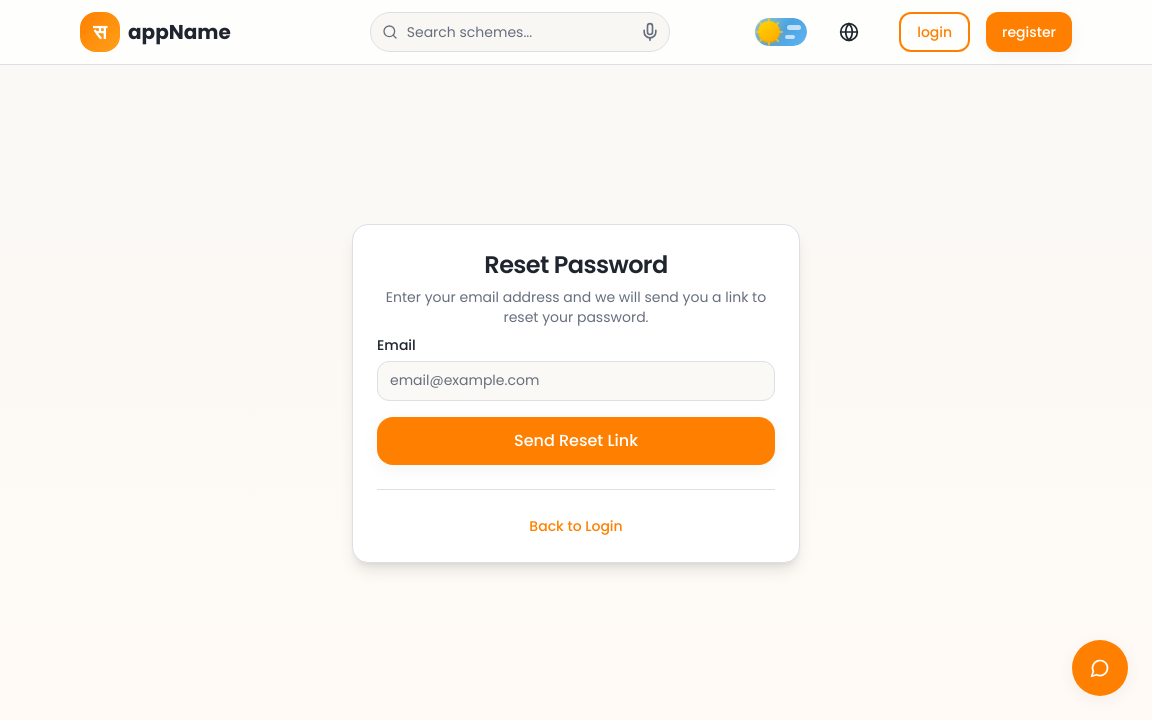
Forgot Password Flow › ForgotPassword Component › 2. Invalid email format
The width and height of the screenshot is (1152, 720).
Type "invalidemail" into the field with placeholder "email@example.com" at (576, 380), box [377, 360, 775, 400]
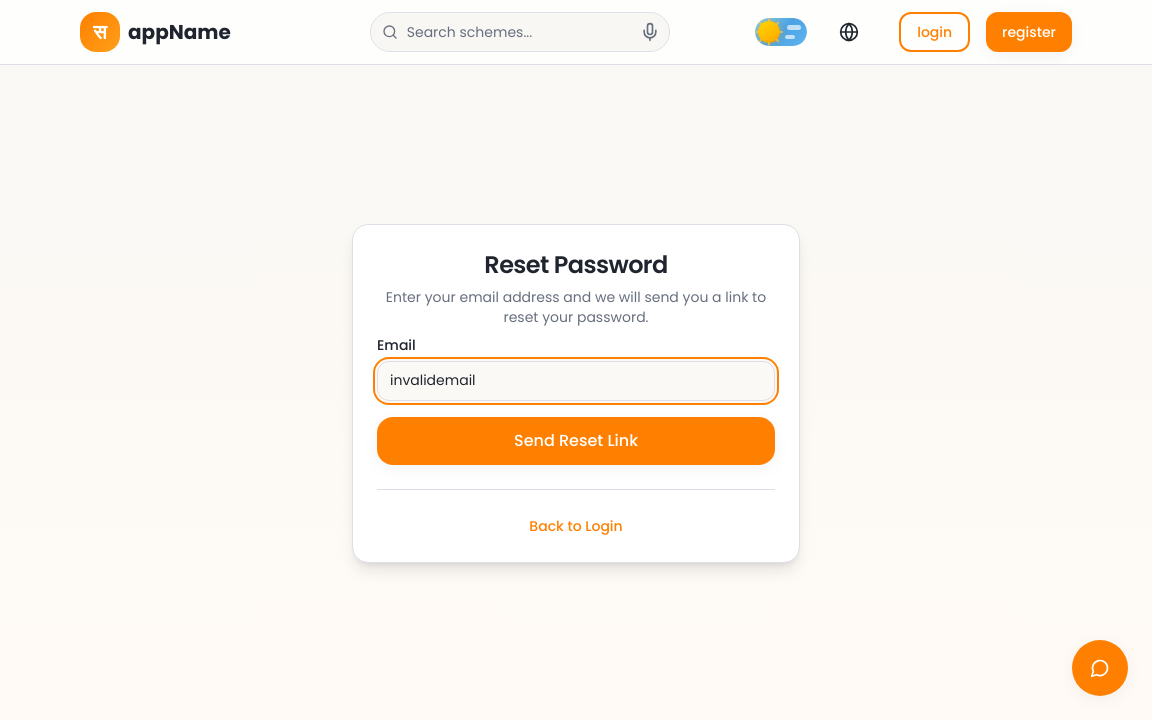
Click the button "Send Reset Link" at (576, 440), box [377, 416, 775, 464]
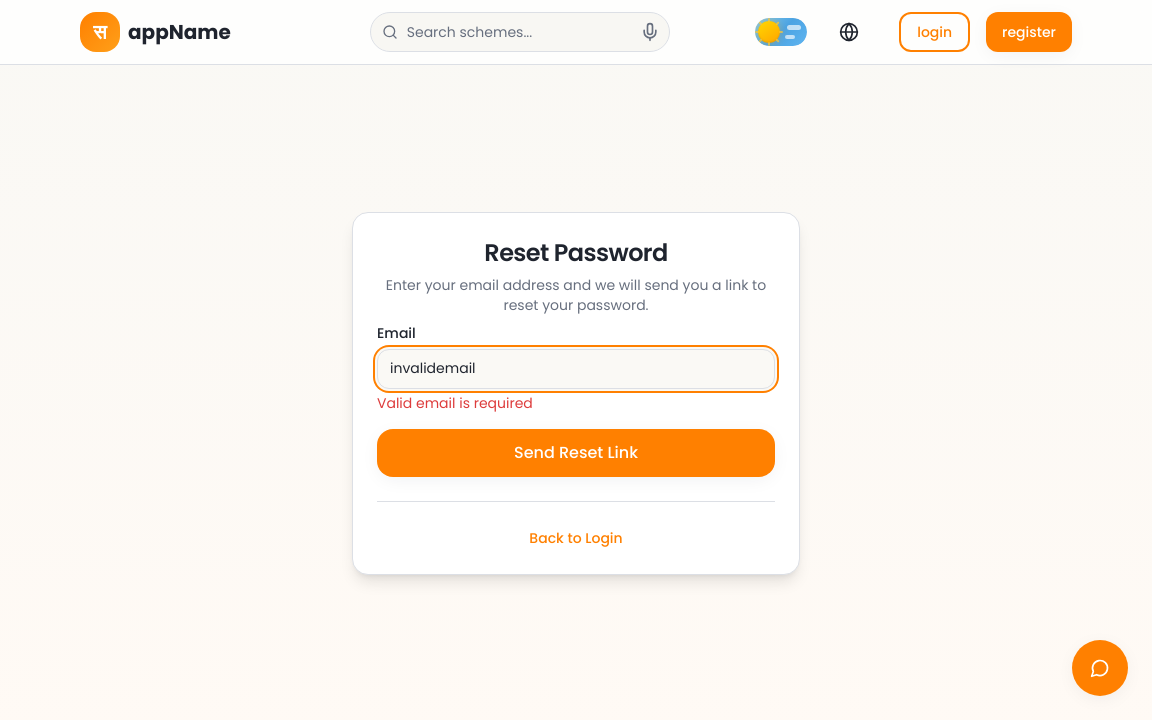
Expected: the text "Valid email is required" is shown, [377, 392, 533, 412]
